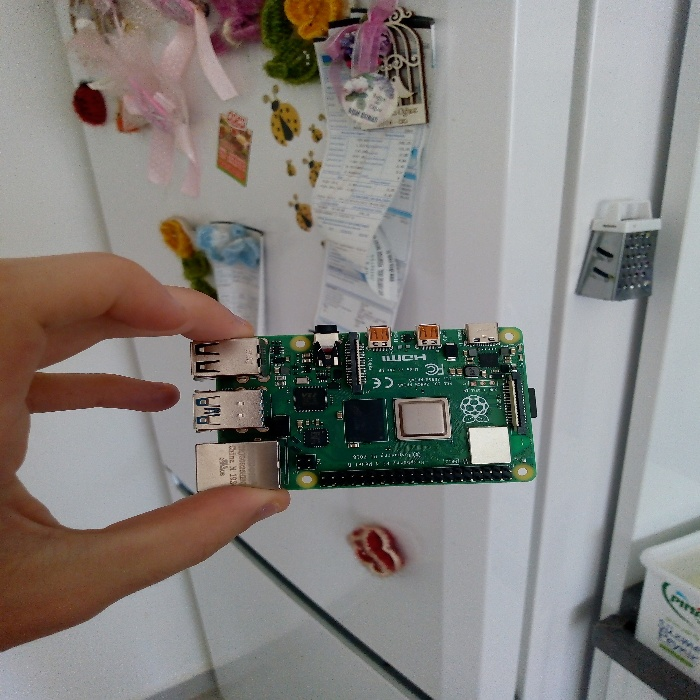raspberry: (166, 313, 552, 492)
